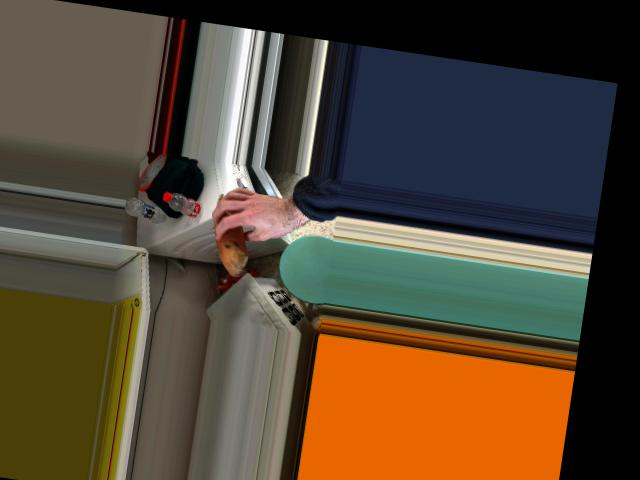sweet_potato: (206, 188, 254, 275)
